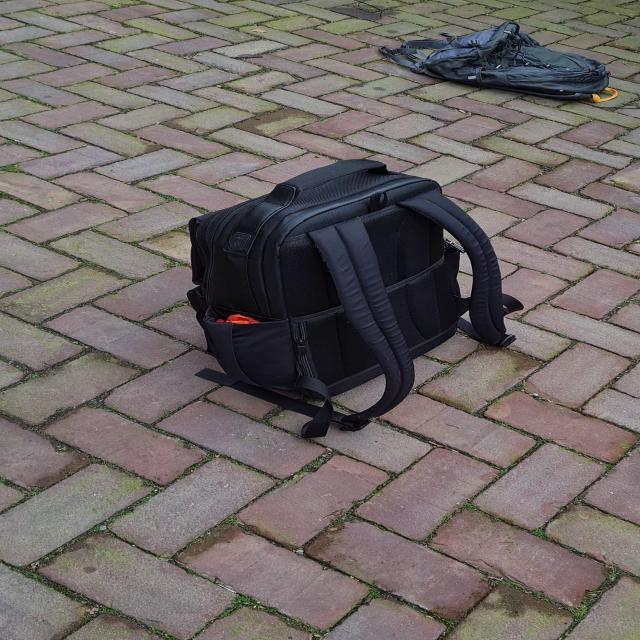backpack: (180, 153, 532, 430)
